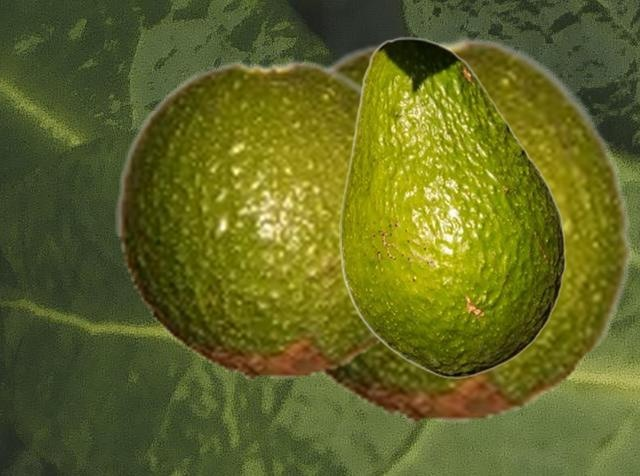avocado: (315, 36, 635, 424), (115, 59, 381, 380), (339, 37, 565, 377)
